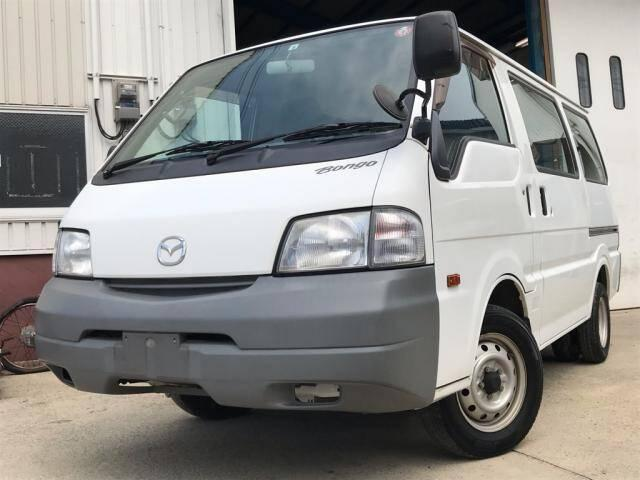Van: (48, 15, 618, 452)
